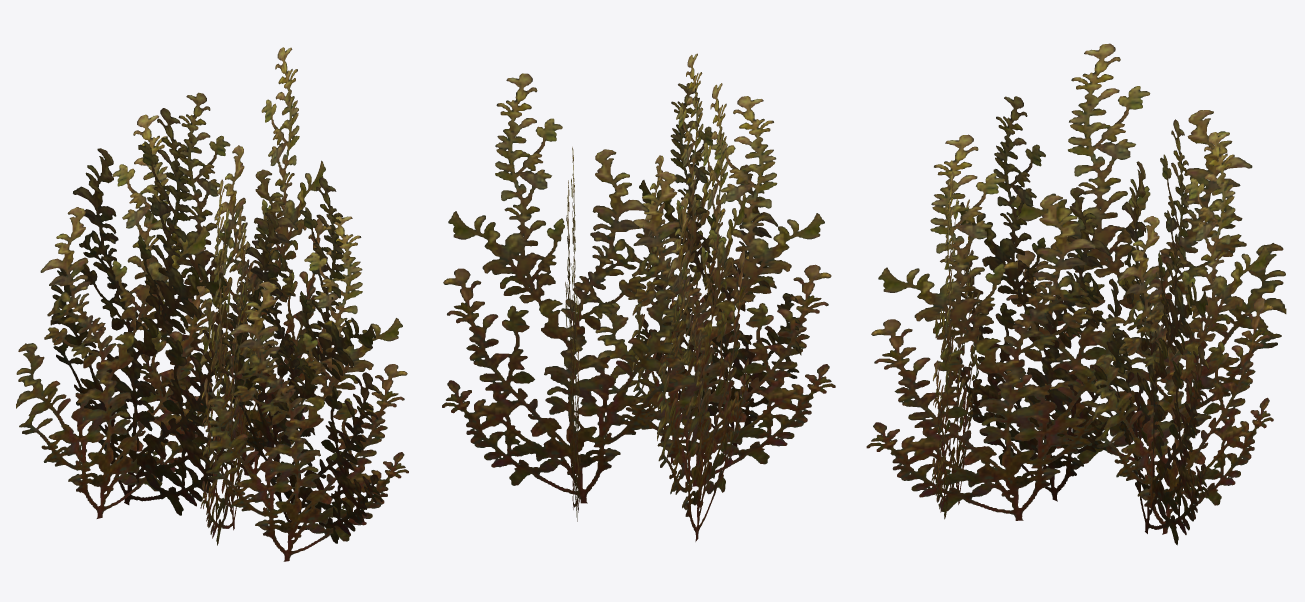
The model's file is yw_huanghunyaosai_guanmu01.FBX.
The picture shows the model from 3 angles, left to right: view 1: azimuth 30°, elevation 25°; view 2: azimuth 150°, elevation 25°; view 3: azimuth 270°, elevation 25°; orthographic projection. The views are drawn at different scales.
Visible parts, largest first — view 1: yw_huanghunyaosai_guanmu01; view 2: yw_huanghunyaosai_guanmu01; view 3: yw_huanghunyaosai_guanmu01.
Boxes of the visible parts, x1,y1,x2,y2 form: yw_huanghunyaosai_guanmu01: (16,47,408,561); yw_huanghunyaosai_guanmu01: (442,53,835,541); yw_huanghunyaosai_guanmu01: (866,43,1286,545).
Bounding box in the file's own units: 109 × 127 × 111.
